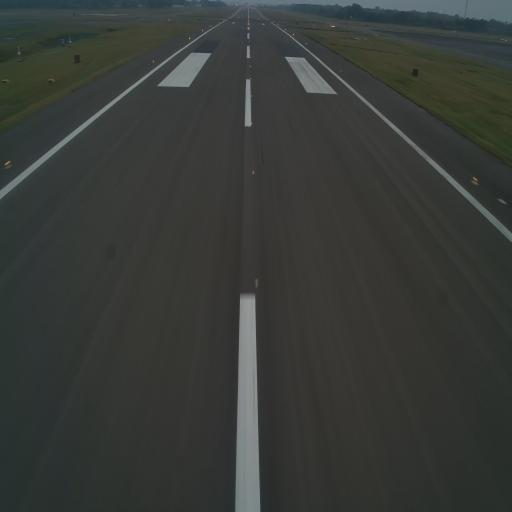off: (339, 69, 343, 75)
on: (3, 154, 15, 170), (252, 276, 261, 292), (472, 174, 479, 188), (249, 91, 254, 102), (250, 170, 255, 178), (250, 118, 254, 128), (152, 58, 155, 64), (248, 76, 252, 80)
